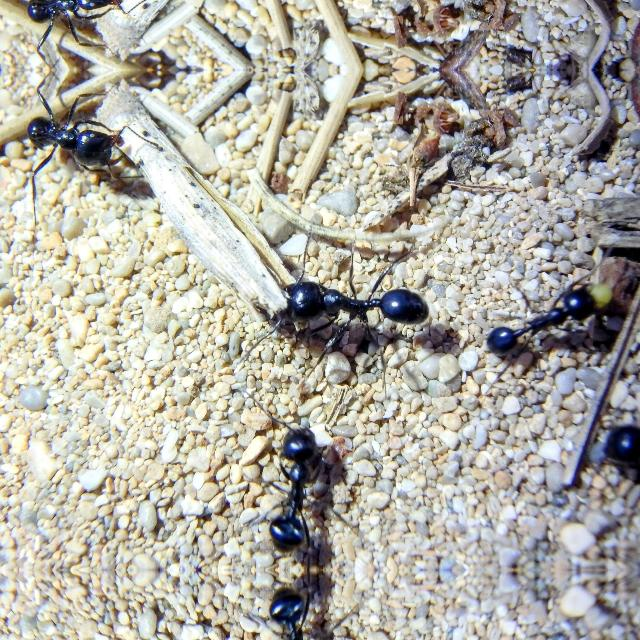Messor: (242, 236, 452, 374), (454, 268, 618, 358), (242, 410, 338, 558), (27, 83, 132, 195), (26, 0, 131, 55), (241, 581, 338, 640)
